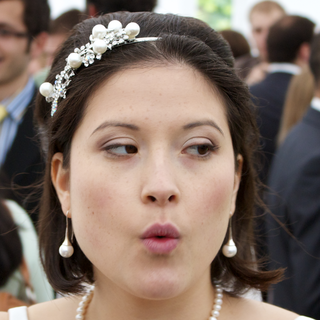eye: (95, 134, 141, 160), (176, 136, 222, 162)
